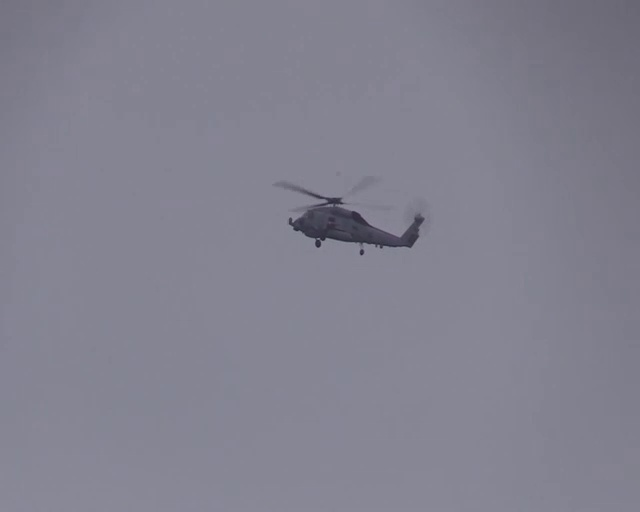HELICOPTER: (271, 170, 426, 256)
